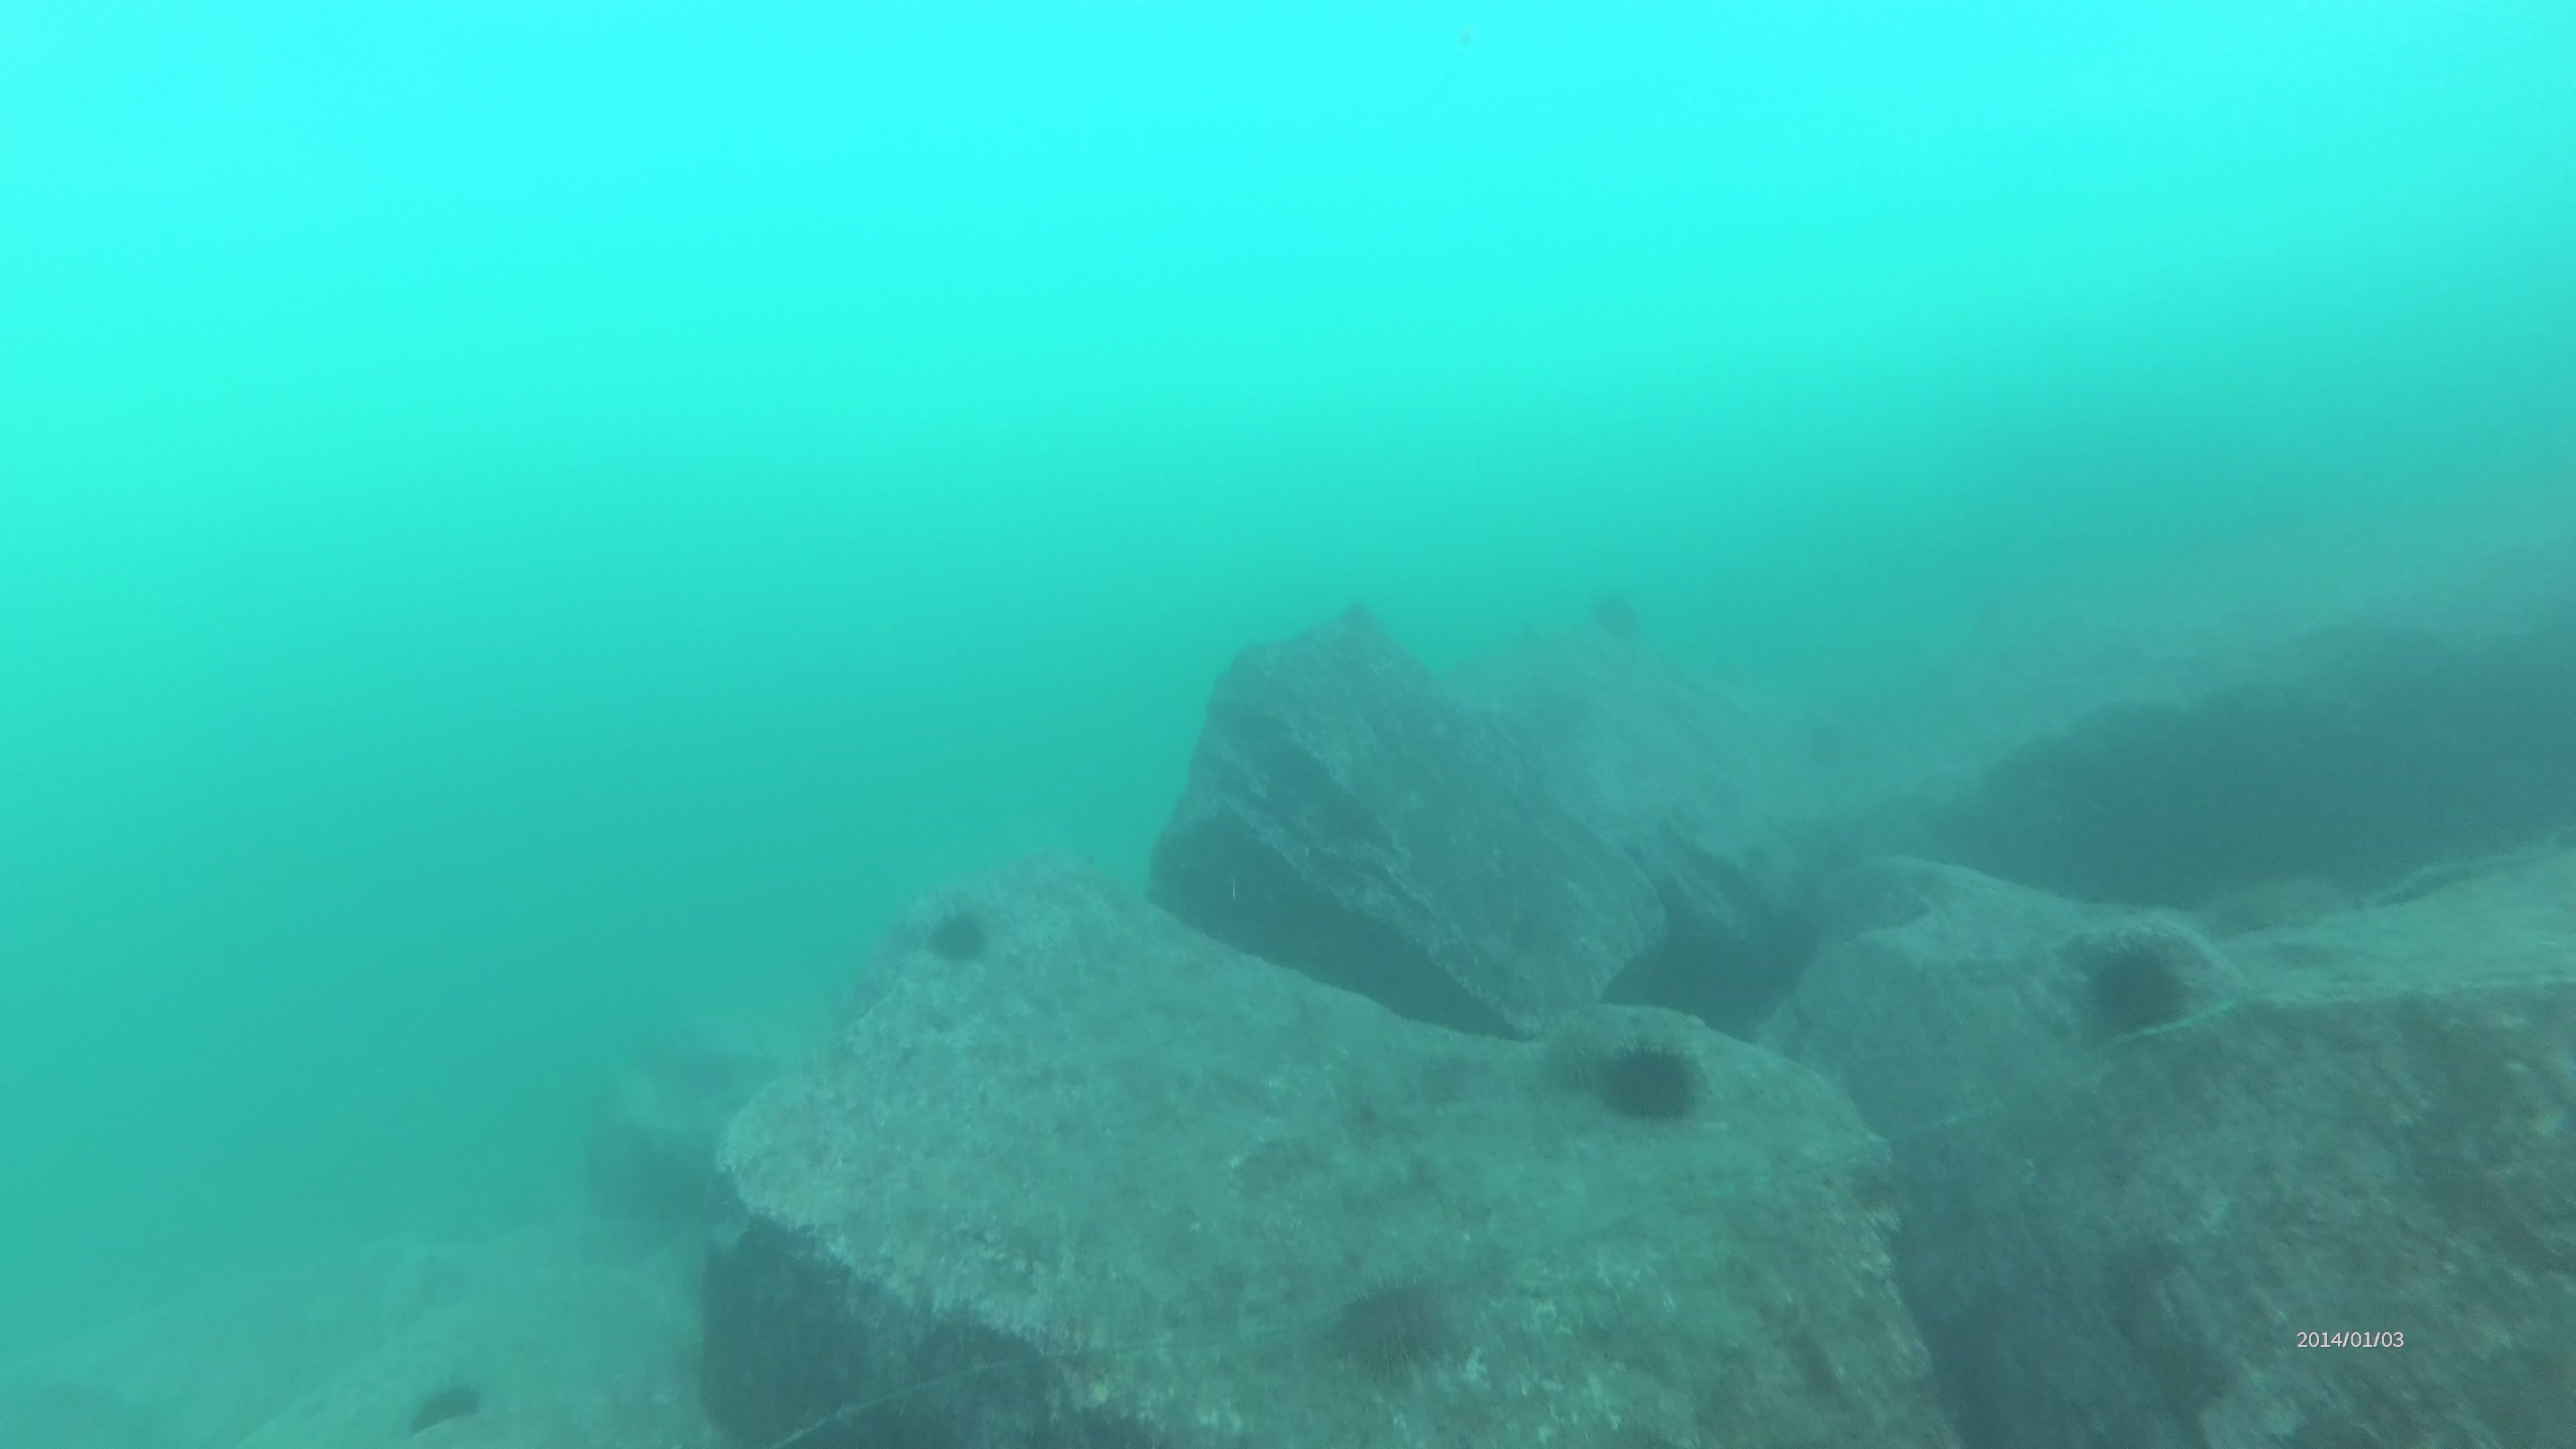echinus: (1341, 1267, 1465, 1389), (2084, 932, 2199, 1039), (1594, 1035, 1709, 1136), (920, 902, 996, 971)
